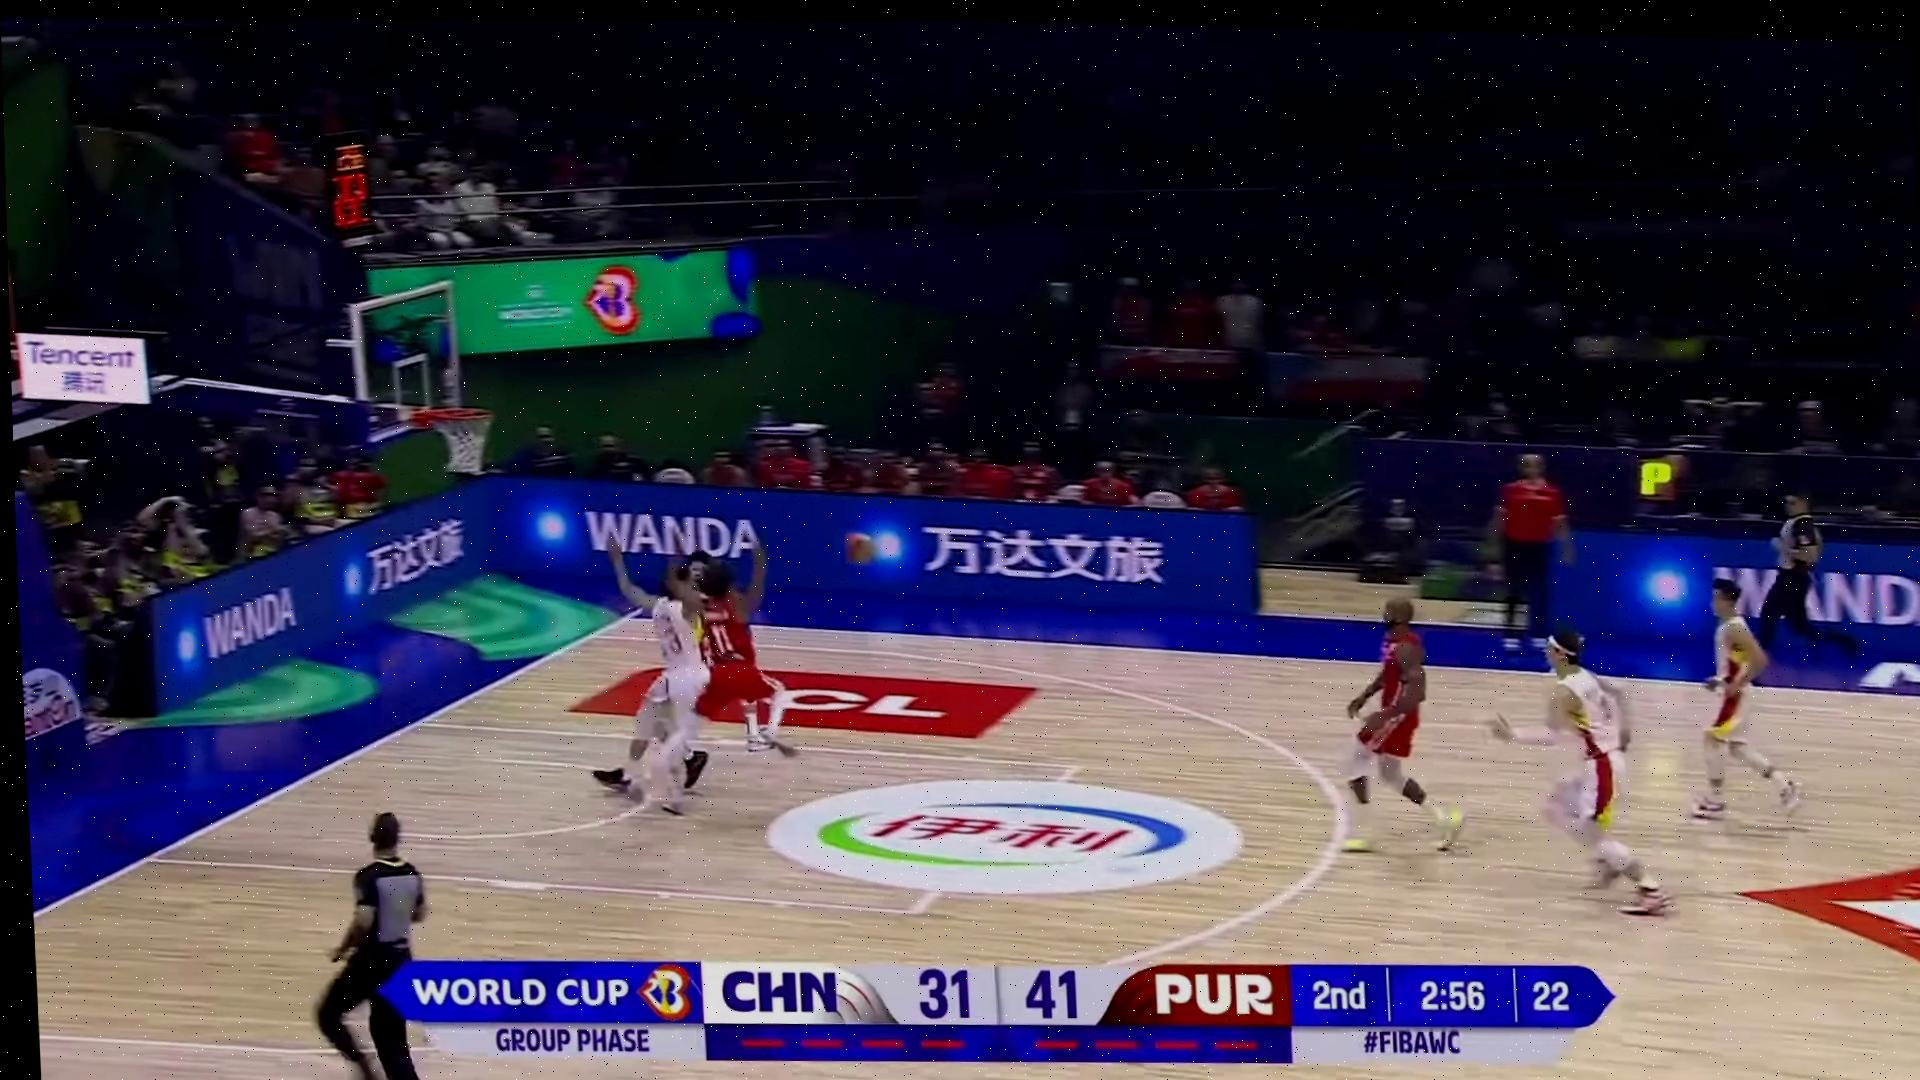no_foul: (612, 543, 811, 787)
